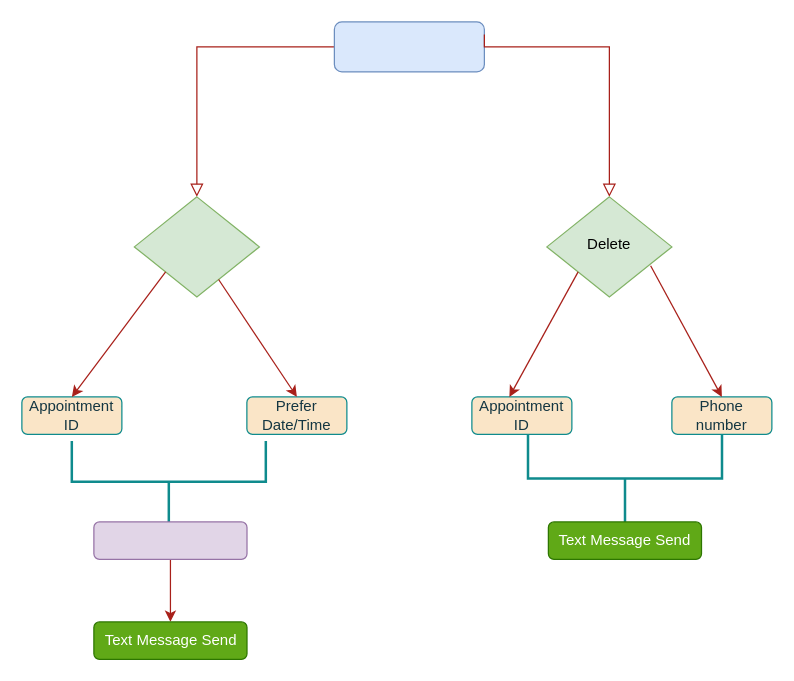
Image size: 794x681. Some labels were removed from this diagram. The shapes that lost their labels are listed below. From the top down, each one's centre as x and y in pixels, then its label:
At pixel 408 46: "Reschedule/ Delete Appointment".
At pixel 196 246: "Reschedule".
At pixel 170 540: "Confirmation".
